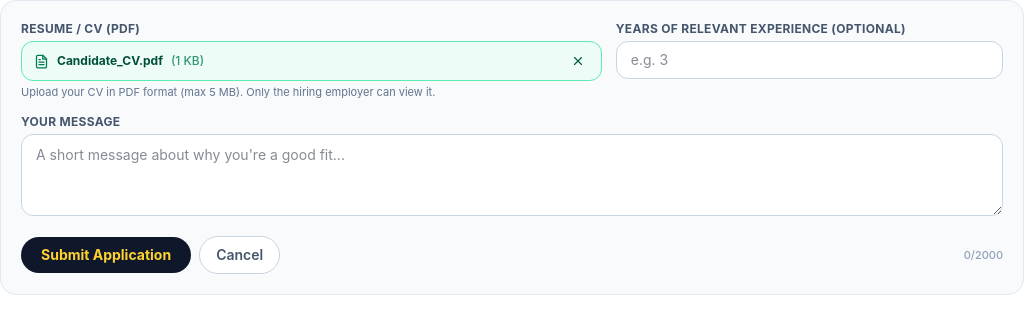
Test: careers client components › submits a PDF CV and years of experience via multipart FormData and rejects non-PDF files
Earlier steps of the test are not shown.
Later steps or results of the test are not shown.
Expected: the text "Candidate_CV.pdf" is shown, x1=57 y1=53 x2=163 y2=69
Type "5" into the number field labelled "Years of relevant experience (optional)" at (809, 60), box x1=616 y1=41 x2=1003 y2=79
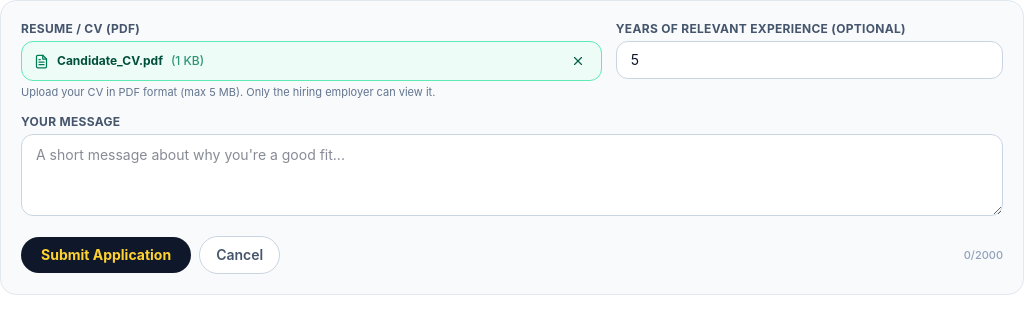
Type "Bilingual property manager." into the text box labelled "Your message" at (512, 175), box x1=21 y1=134 x2=1003 y2=216
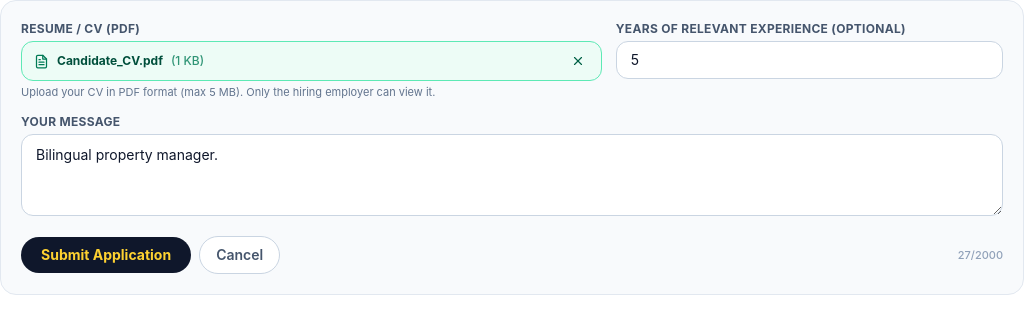
Click the button "Submit Application" at (106, 255), box x1=21 y1=237 x2=191 y2=273
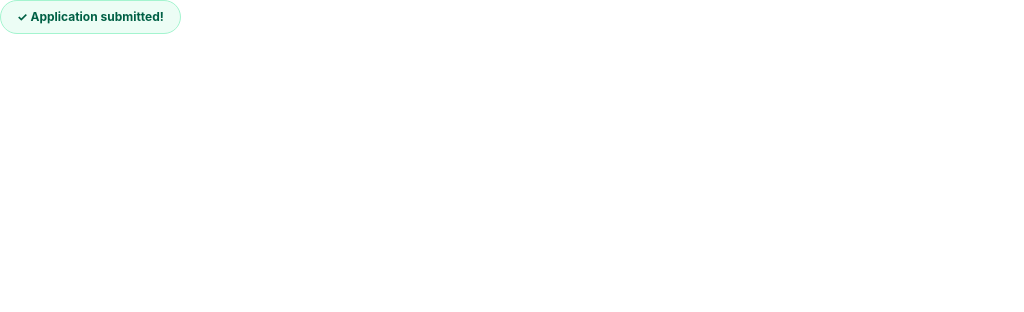
Expected: the message shows "Application submitted!", x1=30 y1=9 x2=164 y2=24
